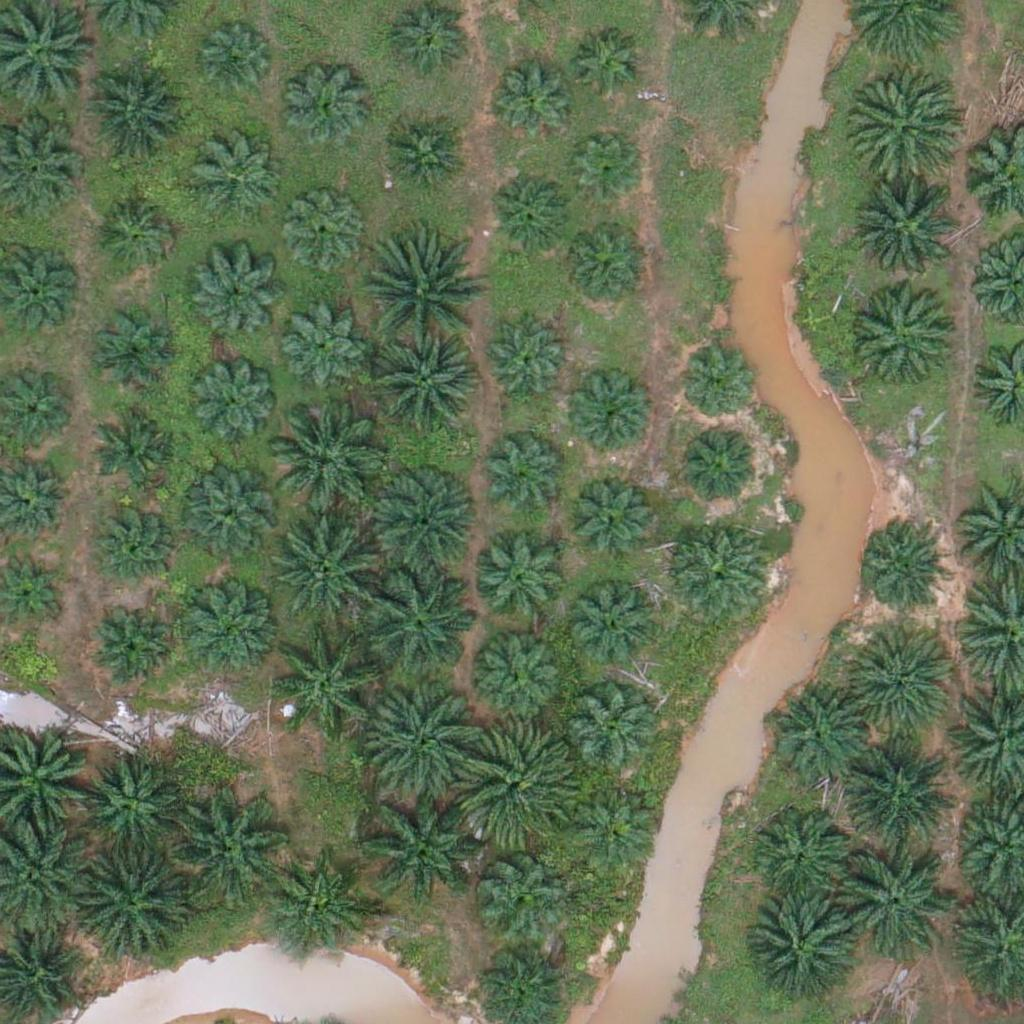Kelapa_Sawit: (72, 847, 185, 961), (844, 625, 957, 739), (361, 462, 474, 576), (743, 896, 856, 1009), (846, 67, 959, 180), (460, 726, 573, 839), (368, 239, 481, 352), (365, 560, 478, 673), (73, 64, 186, 177), (843, 733, 955, 847), (853, 176, 965, 290), (372, 687, 484, 801), (835, 844, 947, 957), (361, 789, 473, 902), (172, 789, 284, 902), (366, 332, 478, 445), (273, 626, 385, 739), (273, 517, 385, 630), (269, 405, 381, 518), (750, 806, 850, 907), (856, 285, 956, 386), (669, 518, 769, 619), (561, 579, 661, 680), (178, 472, 278, 573), (79, 753, 179, 854), (769, 686, 869, 787), (268, 862, 368, 962), (471, 625, 571, 725), (475, 529, 575, 629), (177, 578, 277, 678), (488, 55, 576, 144), (475, 848, 563, 936), (374, 115, 462, 203), (558, 222, 646, 310), (572, 783, 660, 871), (481, 432, 569, 520), (190, 258, 278, 346), (190, 359, 278, 447), (89, 607, 177, 695), (91, 190, 179, 278), (280, 191, 368, 279), (857, 519, 944, 607), (487, 170, 574, 258), (480, 318, 567, 406), (569, 375, 656, 463), (676, 421, 763, 509), (570, 691, 657, 779), (565, 470, 652, 558), (87, 497, 174, 585), (95, 400, 182, 488), (87, 303, 174, 391), (282, 62, 369, 150), (279, 304, 366, 392), (193, 135, 280, 223), (197, 25, 272, 101), (570, 135, 645, 211), (679, 348, 754, 424), (573, 30, 648, 105)
